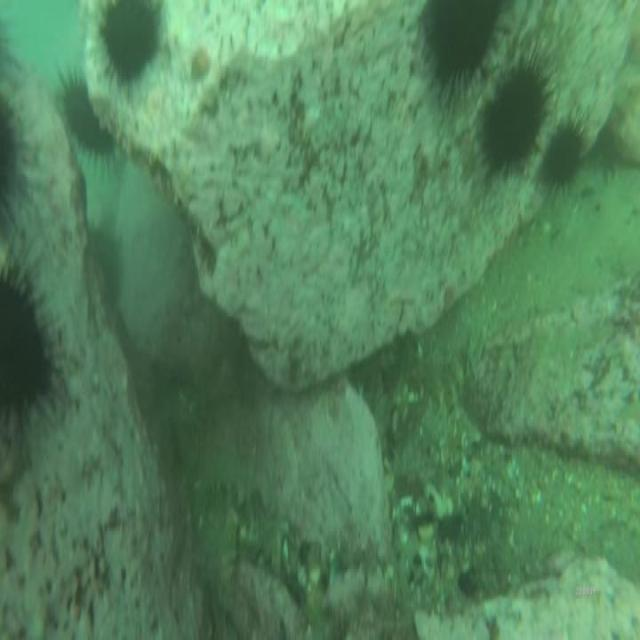echinus: (0, 253, 76, 436), (476, 54, 556, 185), (416, 2, 517, 102), (48, 62, 129, 182), (93, 2, 170, 98), (0, 91, 44, 241), (536, 107, 591, 207)
